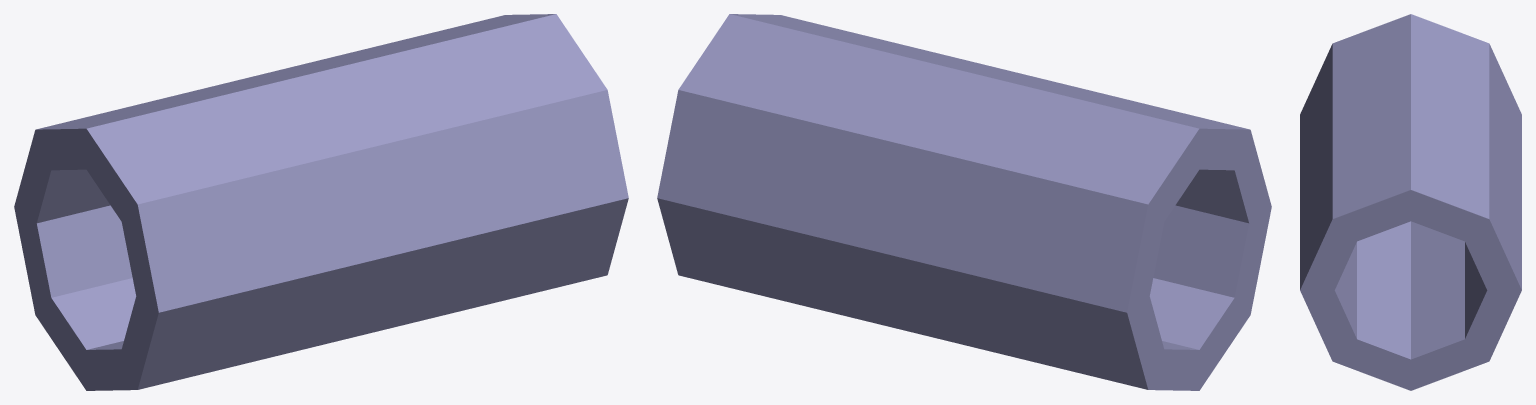
3 views of the same model, side by side, from view 1: azimuth 30°, elevation 25°; view 2: azimuth 150°, elevation 25°; view 3: azimuth 270°, elevation 25° (orthographic). The views are drawn at different scales.
Visible parts, largest first — view 1: part0; view 2: part0; view 3: part0.
Part boxes in pixels (left/top/right/bottom): part0: left=14, top=14, right=628, bottom=390; part0: left=657, top=14, right=1271, bottom=390; part0: left=1300, top=14, right=1521, bottom=390.
Bounding box in the file's own units: 3 × 1.6 × 1.6.
